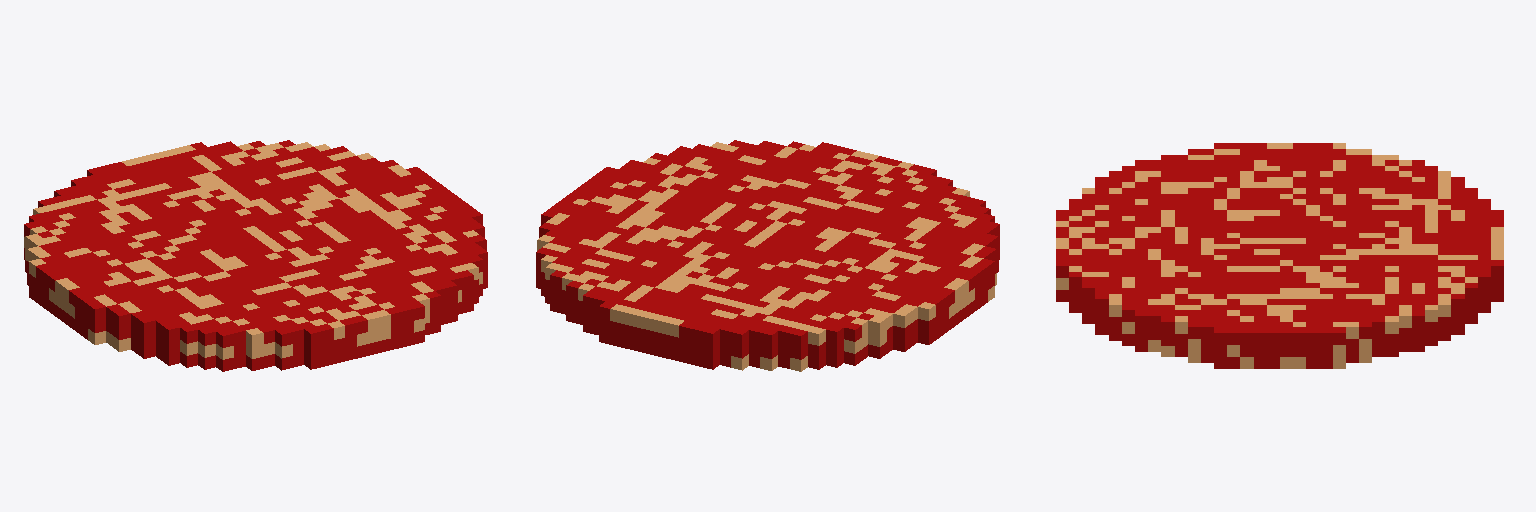
3 renders of one model, left to right at view 1: azimuth 30°, elevation 25°; view 2: azimuth 150°, elevation 25°; view 3: azimuth 270°, elevation 25°, orthographic.
Visible parts, largest first — view 1: object 1; view 2: object 1; view 3: object 1.
Boxes of the visible parts, x1=… form: object 1: x1=24, y1=140, x2=487, y2=371; object 1: x1=536, y1=140, x2=999, y2=371; object 1: x1=1056, y1=143, x2=1503, y2=368.
Bounding box in the file's own units: 3.4 × 0.3 × 3.4.
Materials: 1 (1 with a texture image).